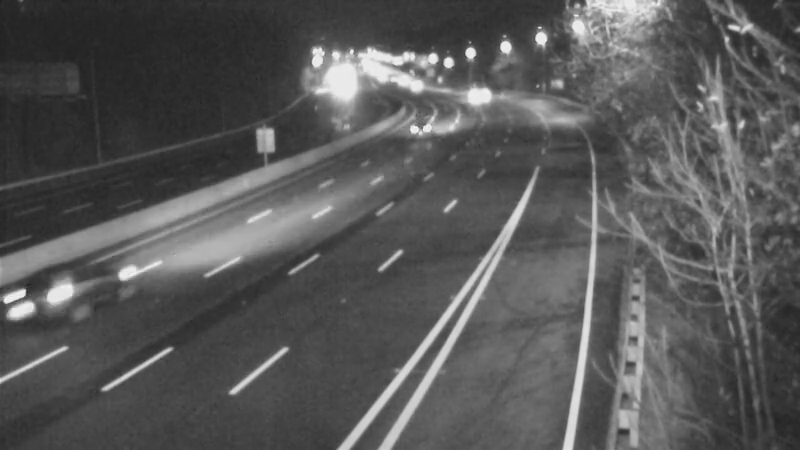vehicle: (1, 259, 80, 339), (385, 60, 435, 110), (453, 68, 503, 118), (397, 102, 447, 152)
